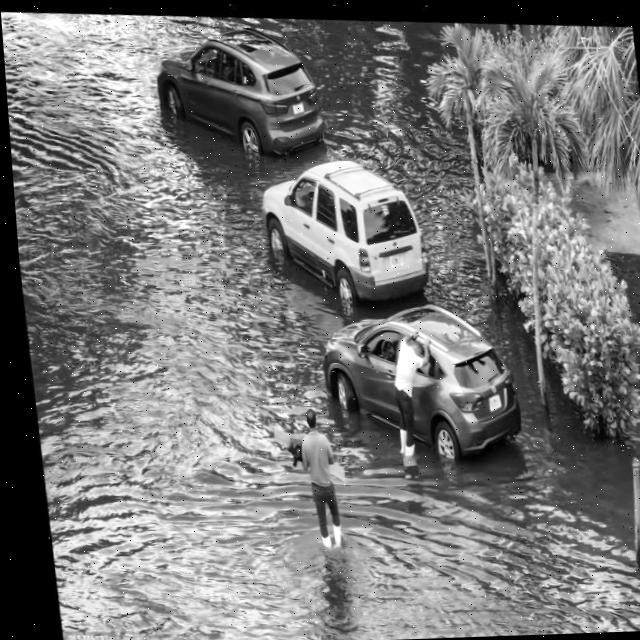civilian: (374, 328, 448, 482), (284, 400, 357, 550)
